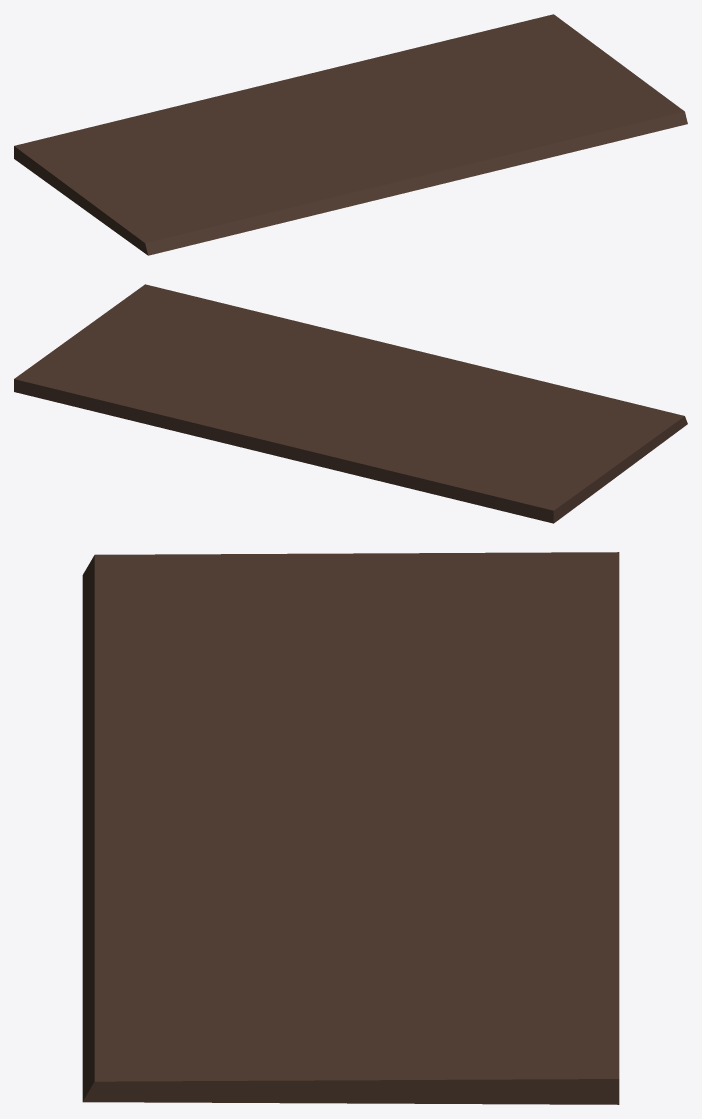
Rendered from m_plank.fbx.
3 renders of one model, top to bottom at view 1: azimuth 30°, elevation 25°; view 2: azimuth 150°, elevation 25°; view 3: azimuth 270°, elevation 25°, orthographic. The views are drawn at different scales.
Parts seen in each view (by area): view 1: plank.001; view 2: plank.001; view 3: plank.001.
Boxes of the visible parts, bbox=[...] form: plank.001: bbox=[14, 14, 687, 255]; plank.001: bbox=[14, 284, 687, 523]; plank.001: bbox=[82, 552, 619, 1104].
Bounding box in the file's own units: 160 × 3.66 × 68.87.
